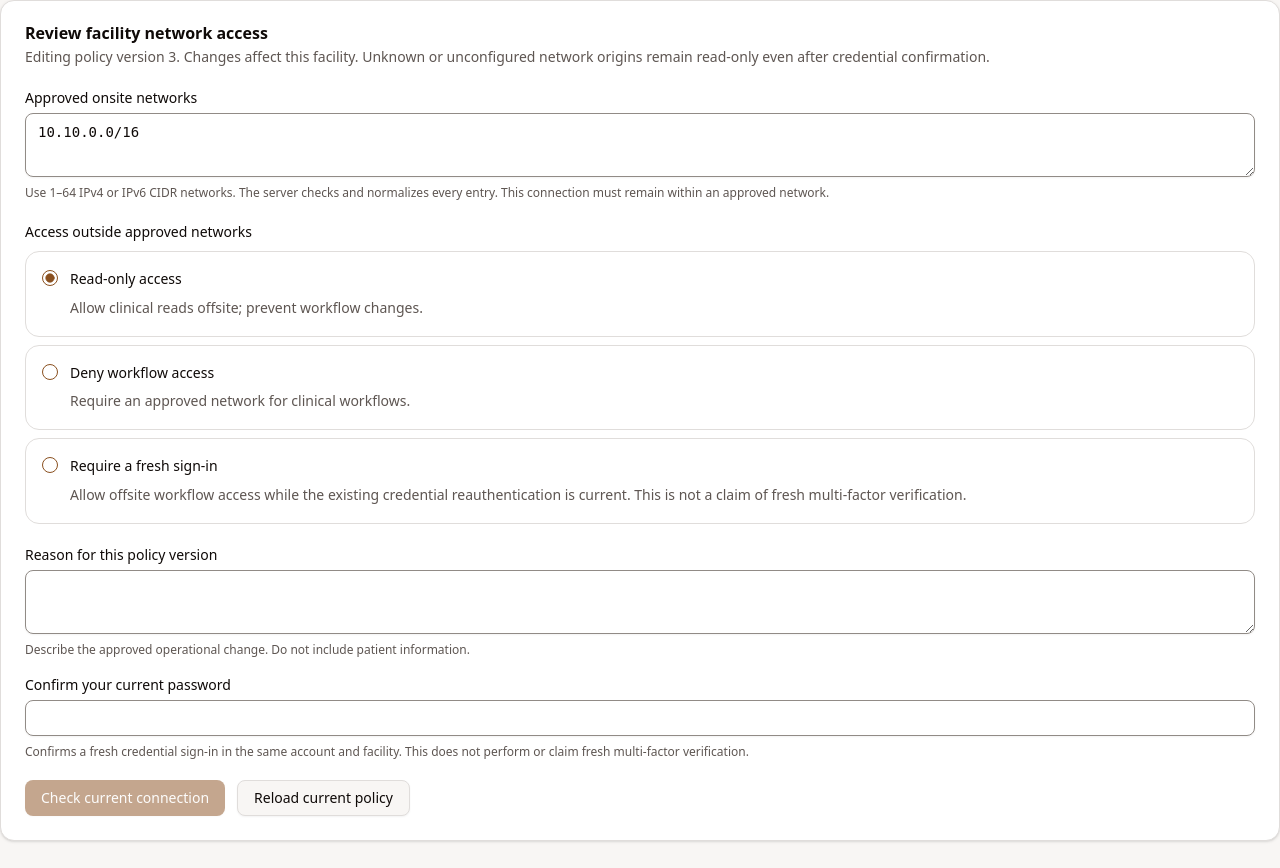
Test case: reviewed network policy workflow › refuses a candidate that would remove the current connection
The width and height of the screenshot is (1280, 868).
Type "Synthetic reason" into the text box labelled "Reason for this policy version". click: (640, 602)
box: left=25, top=570, right=1255, bottom=634
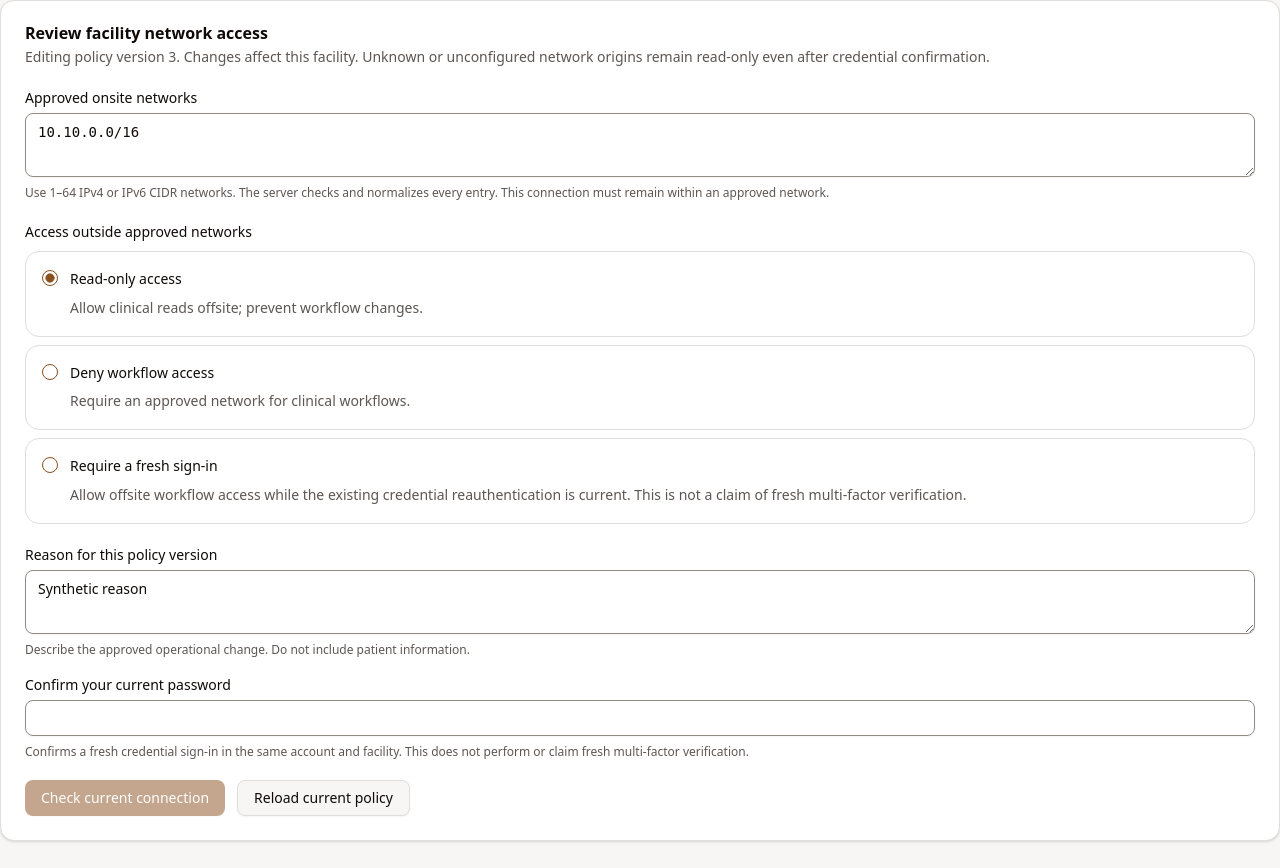
Type "Synthetic password" into the password field labelled "Confirm your current password". click: (640, 718)
box: left=25, top=700, right=1255, bottom=736
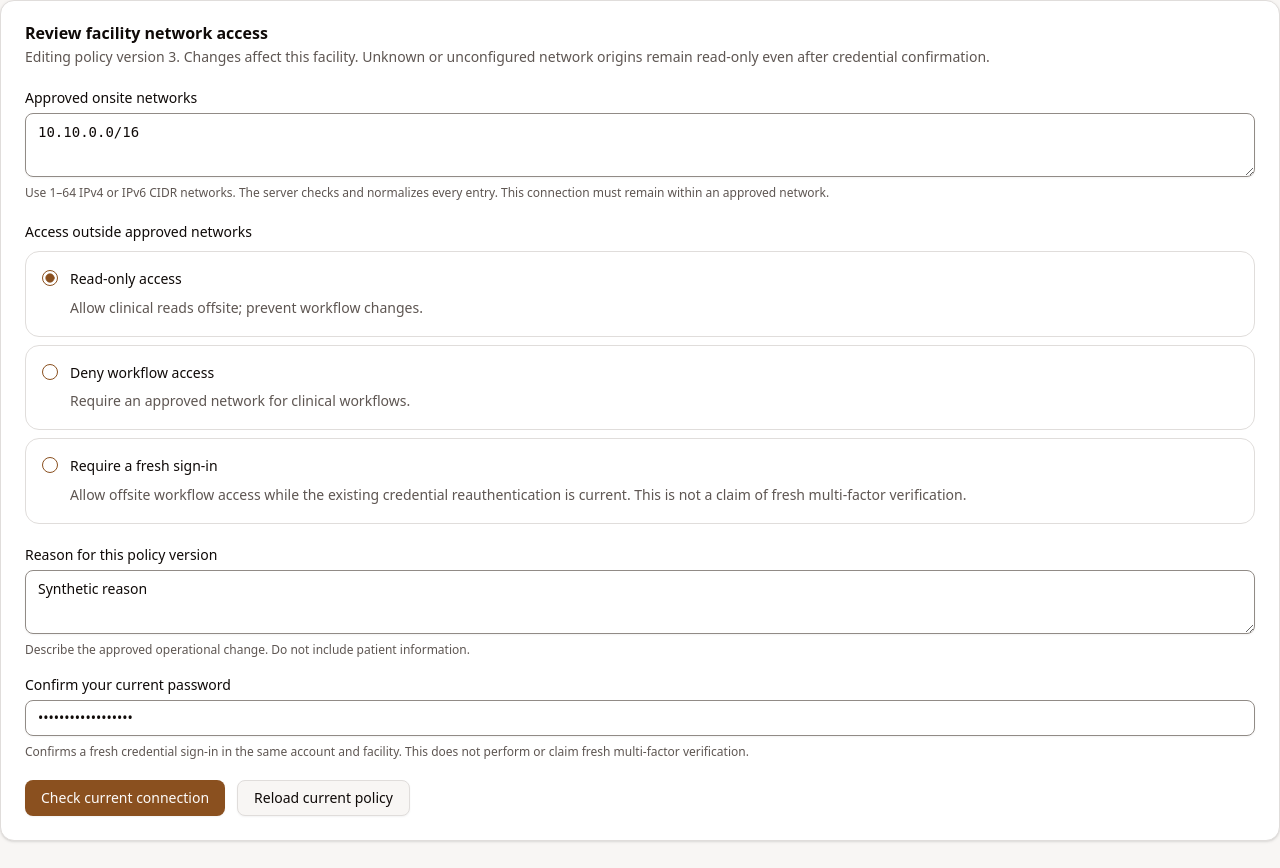
Click the button "Check current connection". click: (125, 798)
box: left=25, top=780, right=225, bottom=816
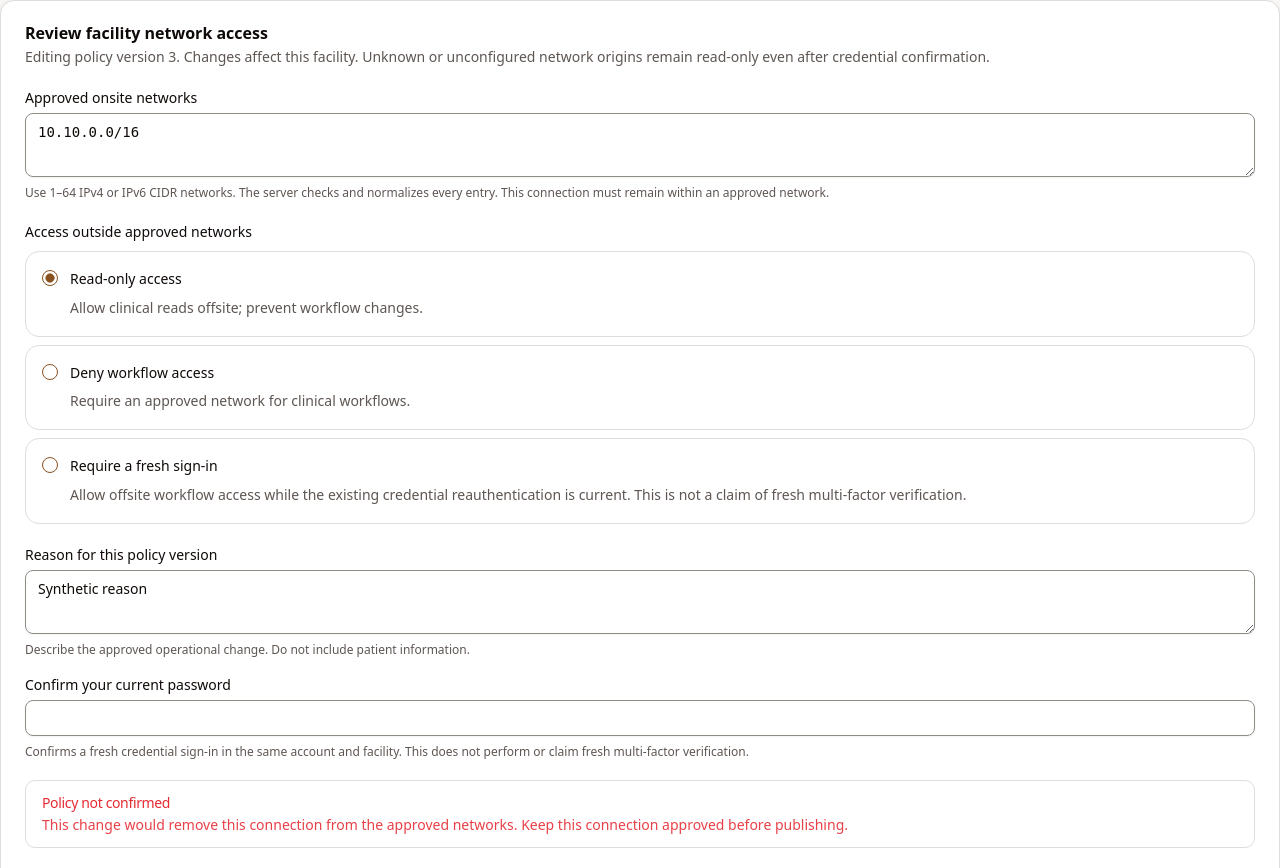
Expected: the text "would remove this connection" is shown, left=42, top=814, right=848, bottom=834
Expected: the password field labelled "Confirm your current password" is empty, left=25, top=700, right=1255, bottom=736
